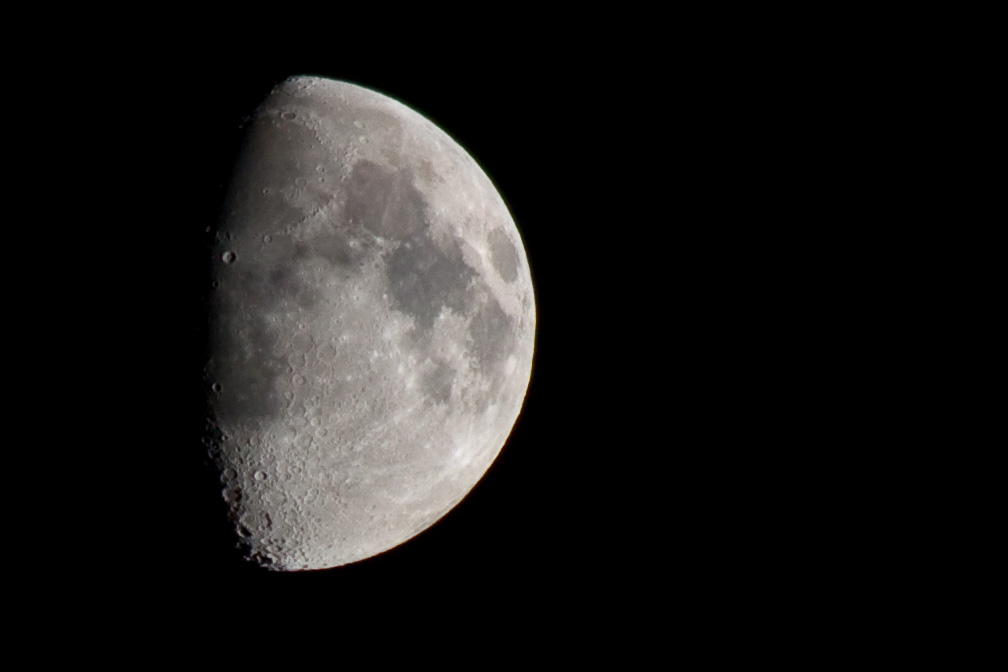crater: (337, 143, 444, 255), (274, 98, 327, 140), (207, 375, 240, 408), (215, 242, 247, 269), (250, 466, 277, 492), (286, 169, 311, 197), (351, 130, 379, 150), (347, 112, 373, 132), (257, 226, 281, 247), (255, 180, 277, 202), (403, 240, 417, 253)
